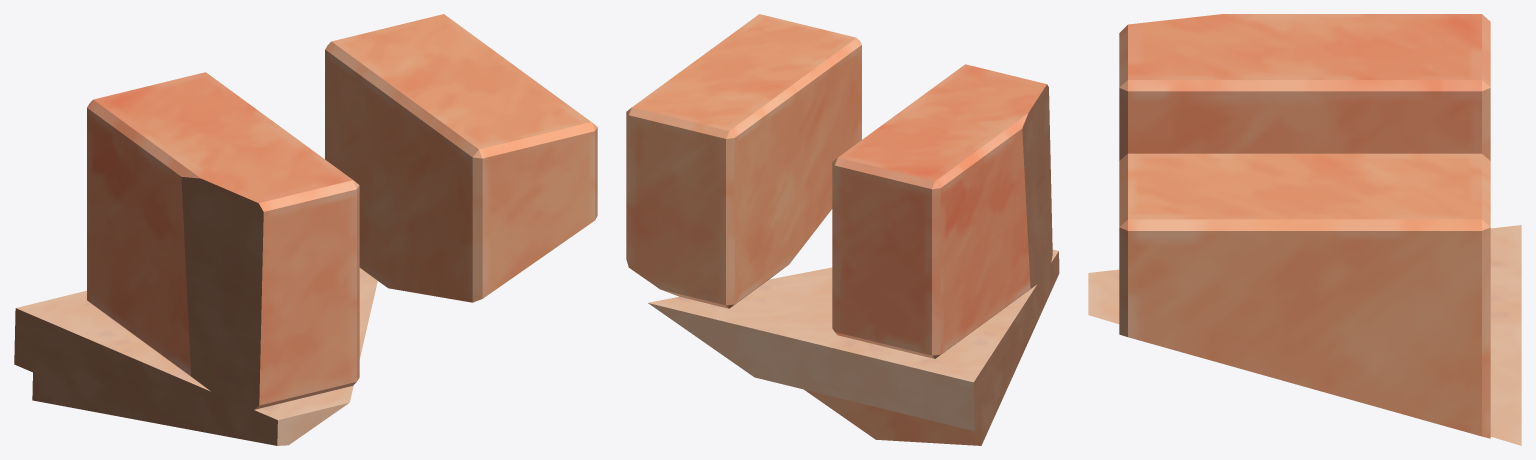
File: towngate_s13.fbx
3 views of the same model, side by side, from view 1: azimuth 30°, elevation 25°; view 2: azimuth 150°, elevation 25°; view 3: azimuth 270°, elevation 25° (orthographic). The views are drawn at different scales.
Parts seen in each view (by area): view 1: towngate_s13; view 2: towngate_s13; view 3: towngate_s13.
Boxes of the visible parts, bbox=[...] form: towngate_s13: bbox=[14, 14, 597, 445]; towngate_s13: bbox=[626, 14, 1059, 445]; towngate_s13: bbox=[1088, 14, 1521, 445].
Bounding box in the file's own units: 4.7 × 3.34 × 3.5.
